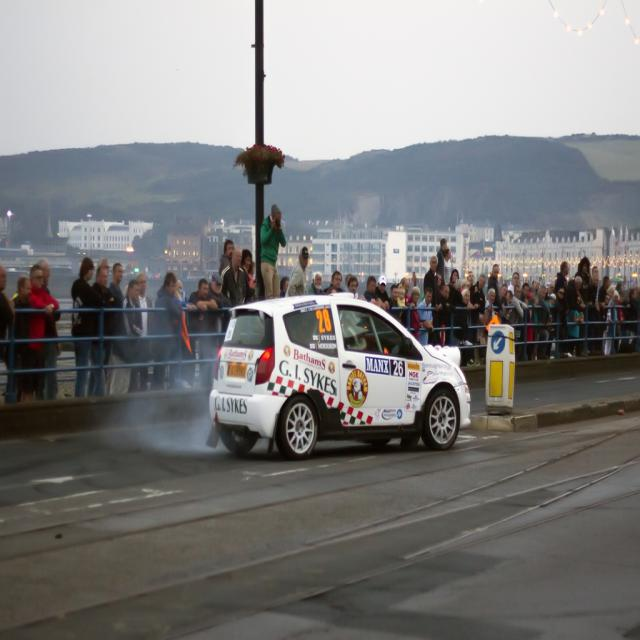car: (199, 282, 476, 461)
